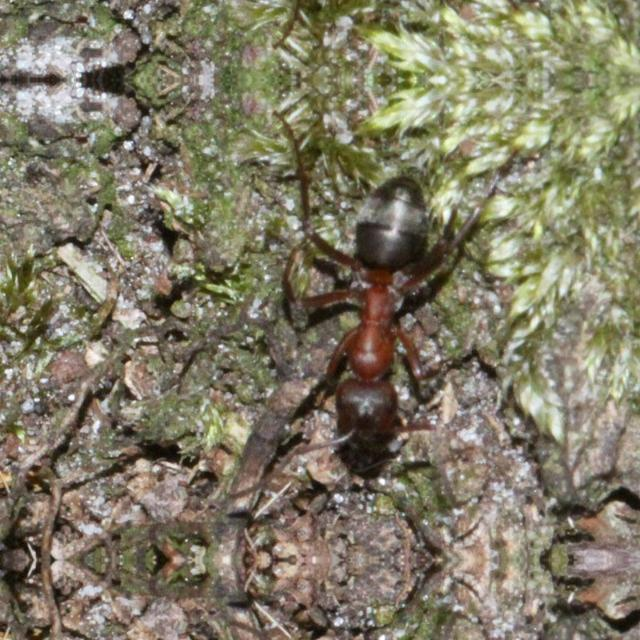Formica: (284, 174, 468, 446)
